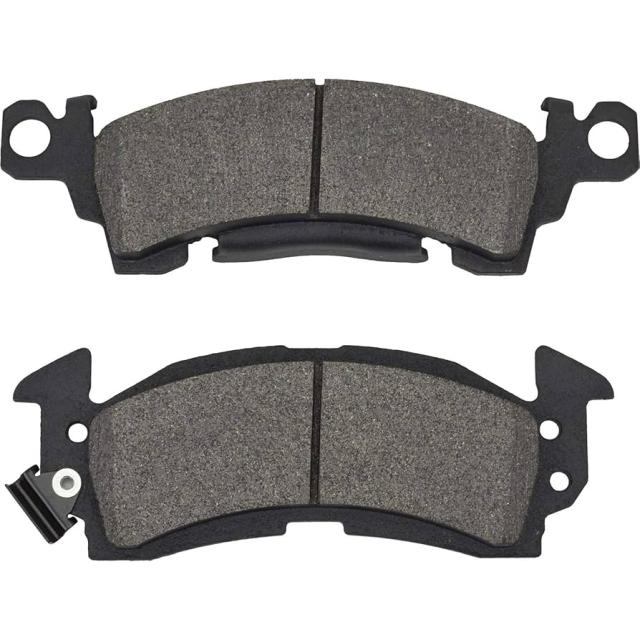brake_pad: (0, 318, 635, 566), (0, 71, 640, 276)
